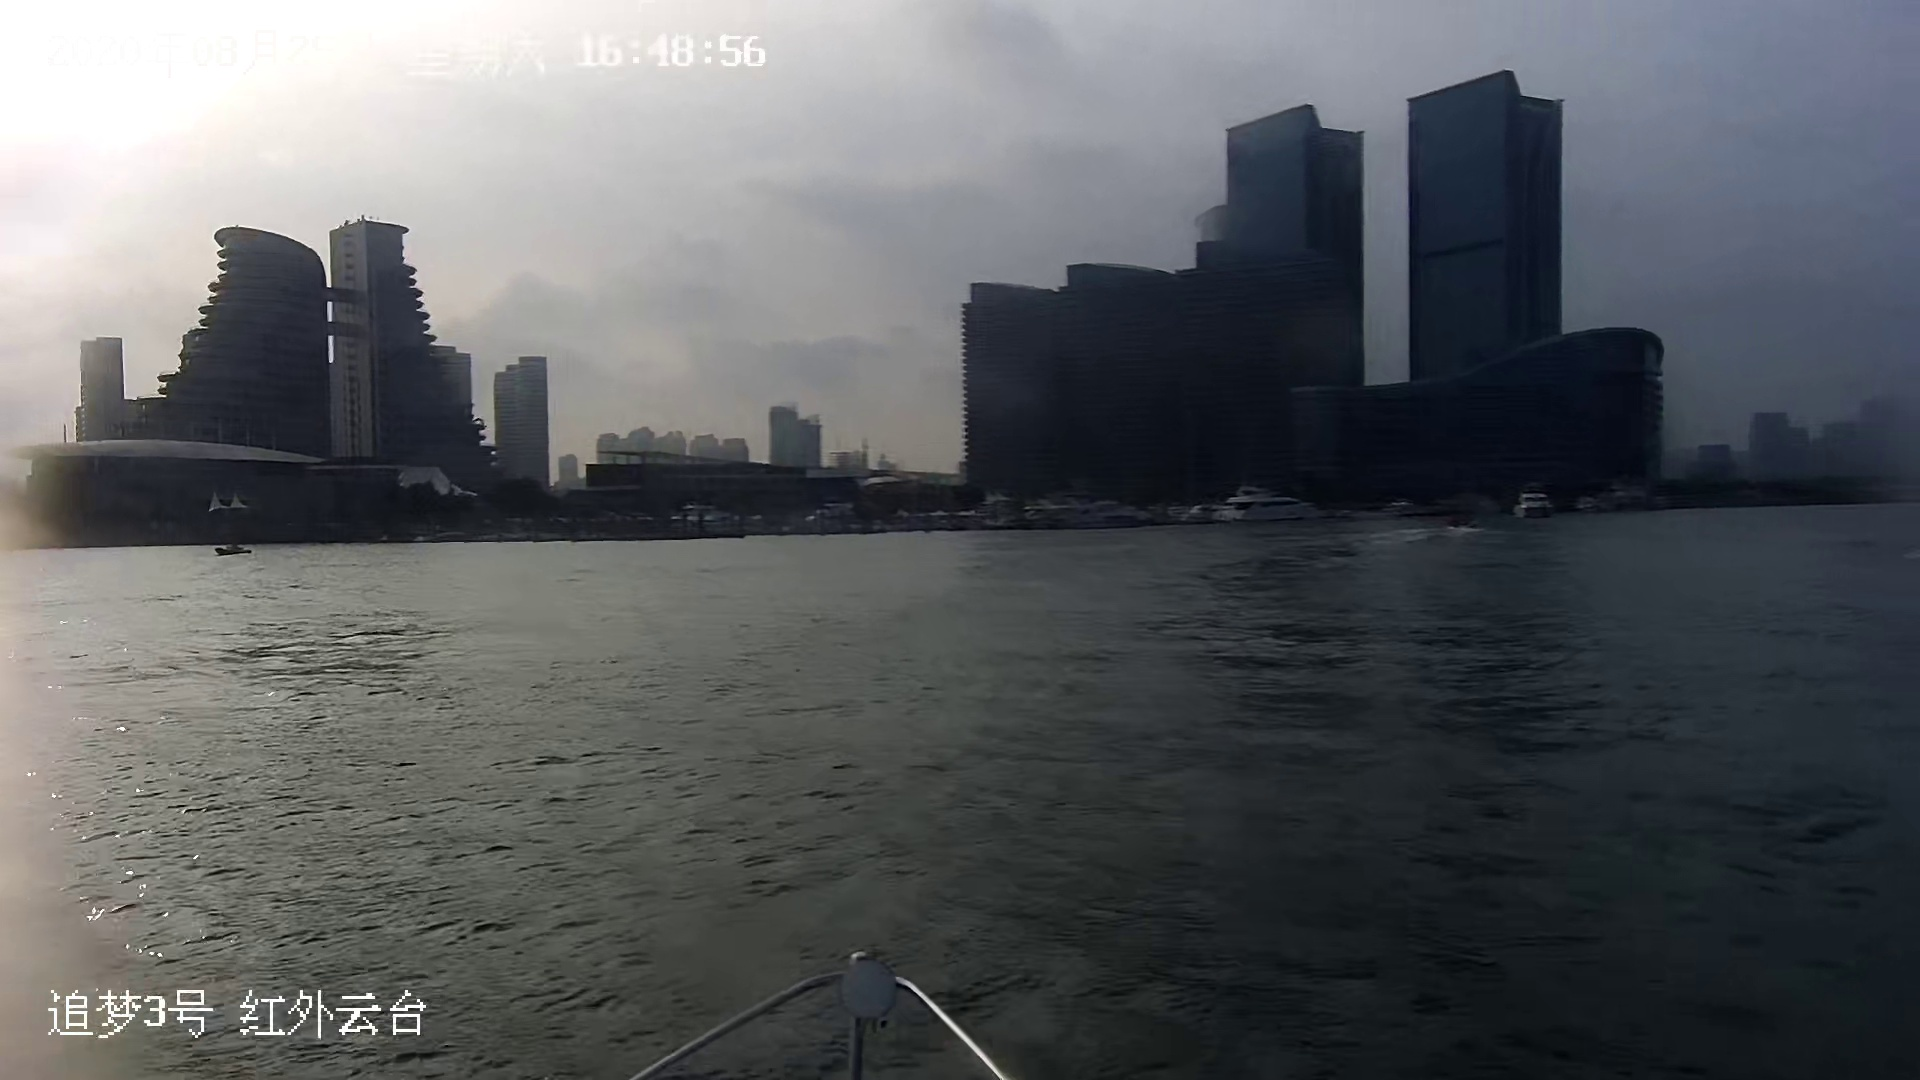barrier: (1215, 491, 1317, 522), (1511, 495, 1556, 526), (214, 537, 256, 556)
coast: (1, 78, 1912, 545)
this: (615, 944, 1006, 1079)
